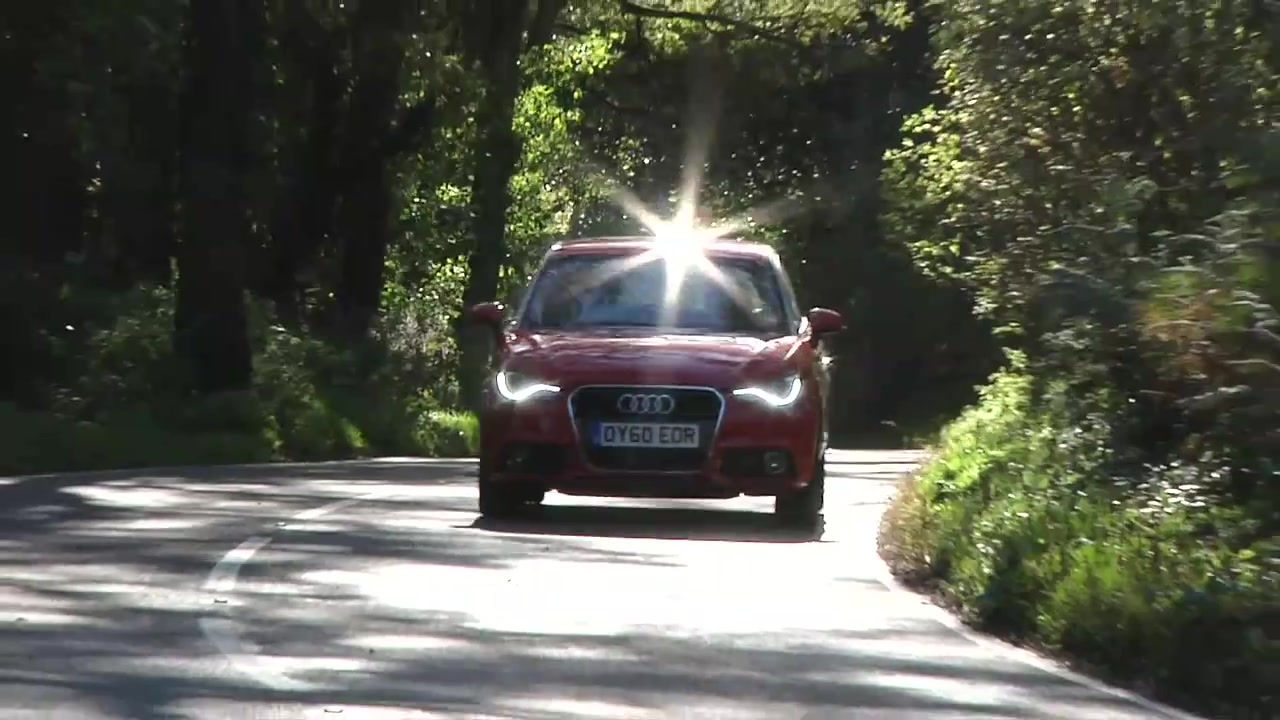car: (466, 235, 845, 532)
